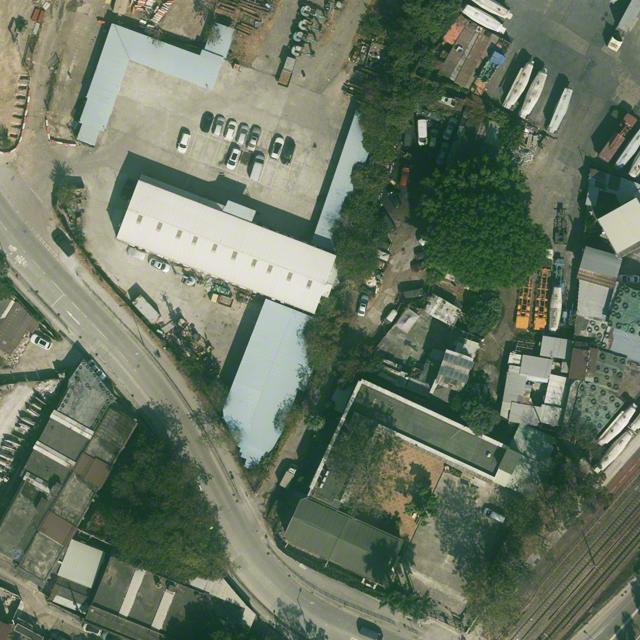panel: (438, 366, 470, 384), (443, 353, 474, 370)
